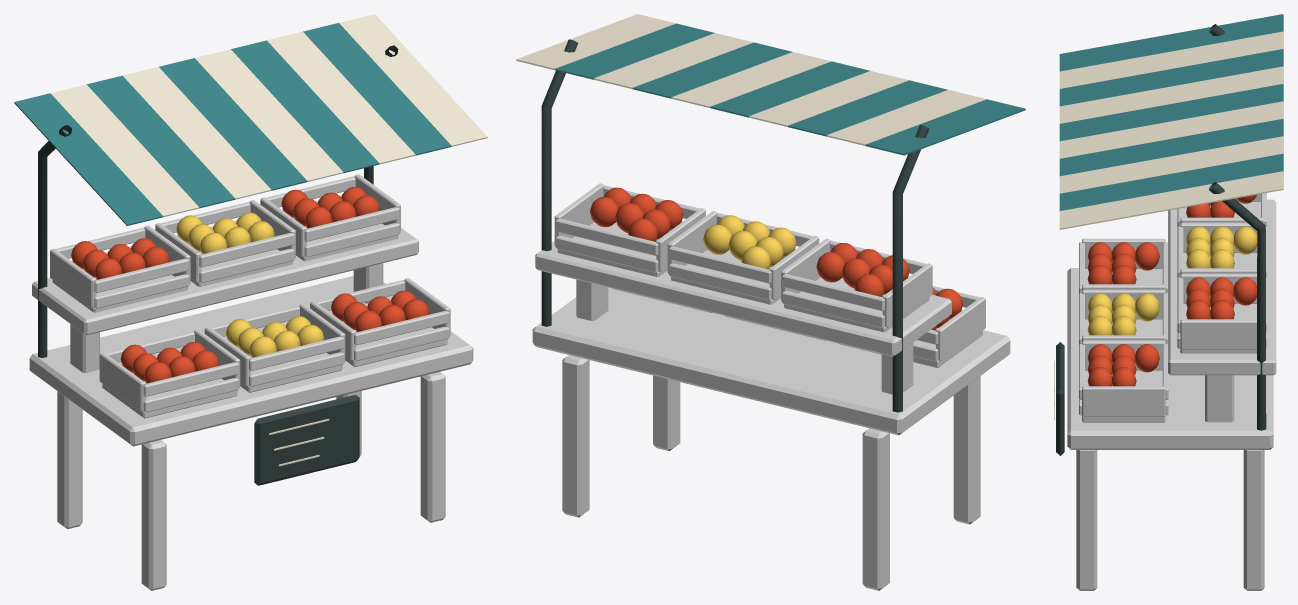
Rendered from MarketDisplay.glb.
3 renders of one model, left to right at view 1: azimuth 30°, elevation 25°; view 2: azimuth 150°, elevation 25°; view 3: azimuth 270°, elevation 25°, orthographic. The views are drawn at different scales.
Parts seen in each view (by area): view 1: RK_MarketDisplay_RK_Wood, RK_MarketDisplay_RK_CanvasCream, RK_MarketDisplay_RK_CanvasBlue, RK_MarketDisplay_RK_ProduceRed, RK_MarketDisplay_RK_Iron, RK_MarketDisplay_RK_ProduceGold; view 2: RK_MarketDisplay_RK_Wood, RK_MarketDisplay_RK_CanvasBlue, RK_MarketDisplay_RK_CanvasCream, RK_MarketDisplay_RK_ProduceRed, RK_MarketDisplay_RK_Iron, RK_MarketDisplay_RK_ProduceGold; view 3: RK_MarketDisplay_RK_Wood, RK_MarketDisplay_RK_CanvasCream, RK_MarketDisplay_RK_CanvasBlue, RK_MarketDisplay_RK_ProduceRed, RK_MarketDisplay_RK_ProduceGold, RK_MarketDisplay_RK_Iron.
Part boxes in pixels (x1=…): RK_MarketDisplay_RK_Wood: x1=29, y1=174, x2=473, y2=590; RK_MarketDisplay_RK_CanvasCream: x1=50, y1=14, x2=487, y2=466; RK_MarketDisplay_RK_CanvasBlue: x1=14, y1=23, x2=451, y2=225; RK_MarketDisplay_RK_ProduceRed: x1=71, y1=187, x2=429, y2=383; RK_MarketDisplay_RK_Iron: x1=38, y1=45, x2=398, y2=485; RK_MarketDisplay_RK_ProduceGold: x1=176, y1=212, x2=324, y2=357; RK_MarketDisplay_RK_Wood: x1=532, y1=183, x2=1010, y2=590; RK_MarketDisplay_RK_CanvasBlue: x1=555, y1=23, x2=1025, y2=155; RK_MarketDisplay_RK_CanvasCream: x1=516, y1=14, x2=986, y2=145; RK_MarketDisplay_RK_ProduceRed: x1=590, y1=187, x2=963, y2=330; RK_MarketDisplay_RK_Iron: x1=541, y1=39, x2=929, y2=412; RK_MarketDisplay_RK_ProduceGold: x1=703, y1=215, x2=796, y2=269; RK_MarketDisplay_RK_Wood: x1=1067, y1=193, x2=1276, y2=590; RK_MarketDisplay_RK_CanvasCream: x1=1054, y1=31, x2=1283, y2=419; RK_MarketDisplay_RK_CanvasBlue: x1=1059, y1=14, x2=1283, y2=210; RK_MarketDisplay_RK_ProduceRed: x1=1087, y1=194, x2=1256, y2=386; RK_MarketDisplay_RK_ProduceGold: x1=1087, y1=226, x2=1257, y2=335; RK_MarketDisplay_RK_Iron: x1=1056, y1=24, x2=1266, y2=455.
Size of the model in its own units: 1.68 by 1.88 by 0.9325.
